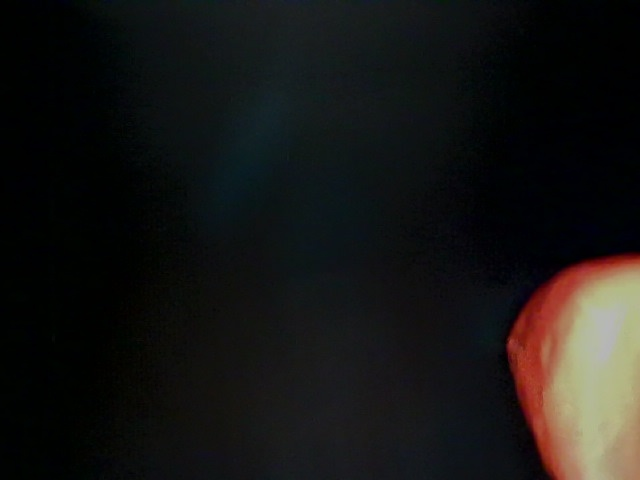KHSLJ: (14, 14, 506, 357)
